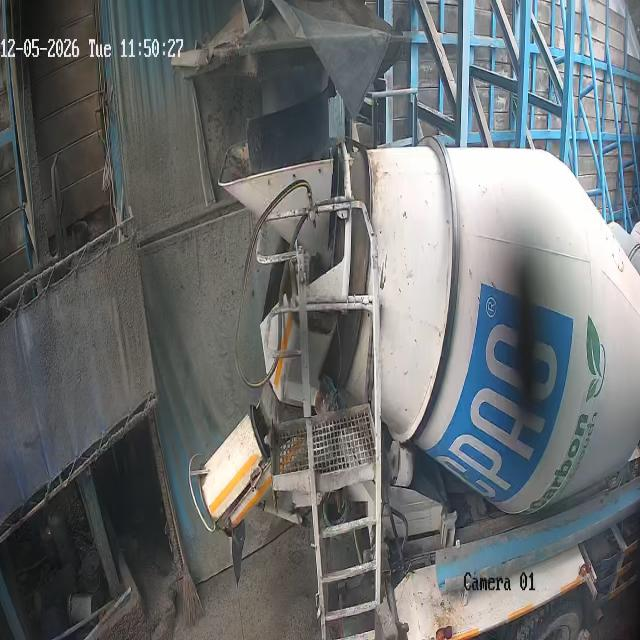cement_mixer_truck: (217, 139, 640, 639)
